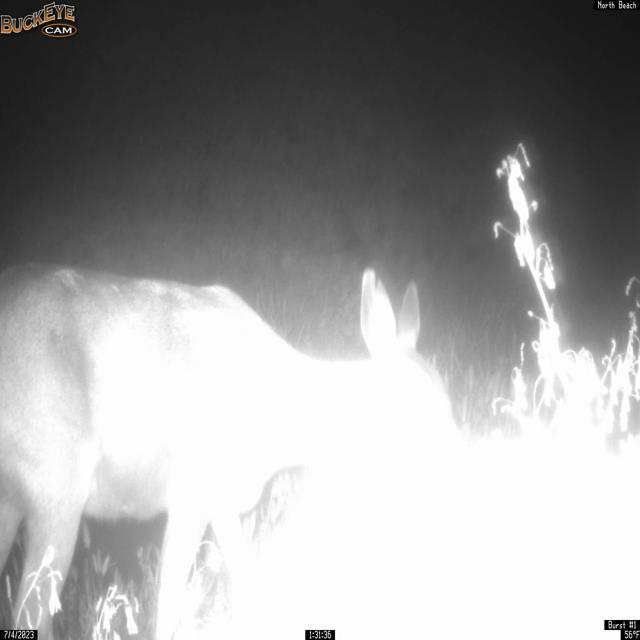deer: (0, 260, 461, 640)
